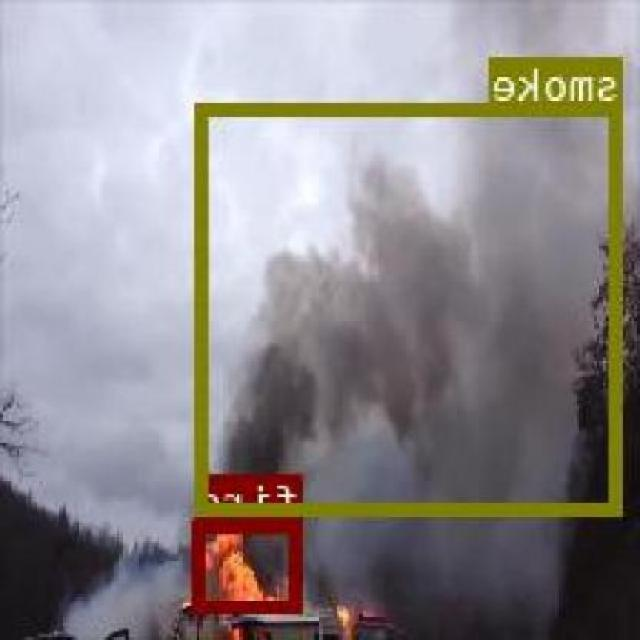Fire: (195, 520, 303, 611)
Smoke: (198, 102, 624, 513)
